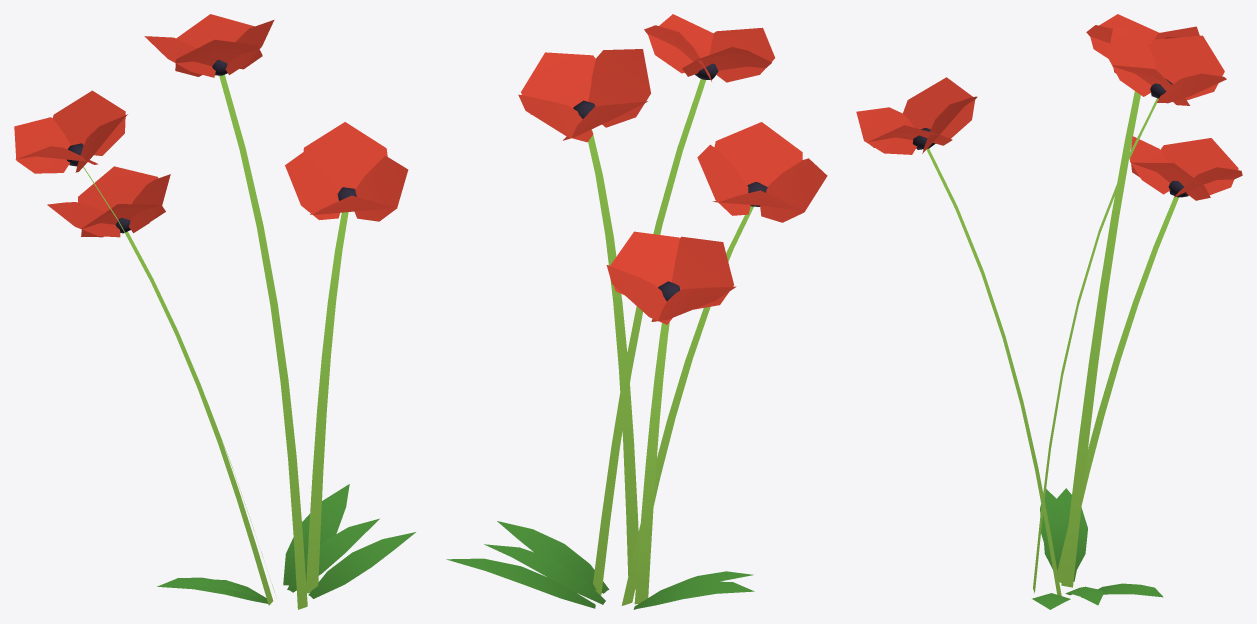
Rendered from poppy1.gltf.
The picture shows the model from 3 angles, left to right: view 1: azimuth 30°, elevation 25°; view 2: azimuth 150°, elevation 25°; view 3: azimuth 270°, elevation 25°; orthographic projection. The views are drawn at different scales.
Parts seen in each view (by area): view 1: poppy1_petal_LOD0, poppy1_stalk_LOD0, poppy1_leaf_LOD0, poppy1_center_LOD0; view 2: poppy1_petal_LOD0, poppy1_stalk_LOD0, poppy1_leaf_LOD0, poppy1_center_LOD0; view 3: poppy1_petal_LOD0, poppy1_stalk_LOD0, poppy1_leaf_LOD0, poppy1_center_LOD0.
Boxes of the visible parts, x1,y1,x2,y2 form: poppy1_petal_LOD0: (14,14,408,237); poppy1_stalk_LOD0: (83,74,348,609); poppy1_leaf_LOD0: (157,484,415,603); poppy1_center_LOD0: (67,59,356,233); poppy1_petal_LOD0: (518,14,827,324); poppy1_stalk_LOD0: (588,79,753,605); poppy1_leaf_LOD0: (446,521,754,609); poppy1_center_LOD0: (573,63,767,300); poppy1_petal_LOD0: (856,14,1242,200); poppy1_stalk_LOD0: (926,91,1178,595); poppy1_leaf_LOD0: (1032,488,1163,609); poppy1_center_LOD0: (913,79,1188,197).
Size of what is drawn, in the model's own units: 0.4142 by 0.6291 by 0.4056.
